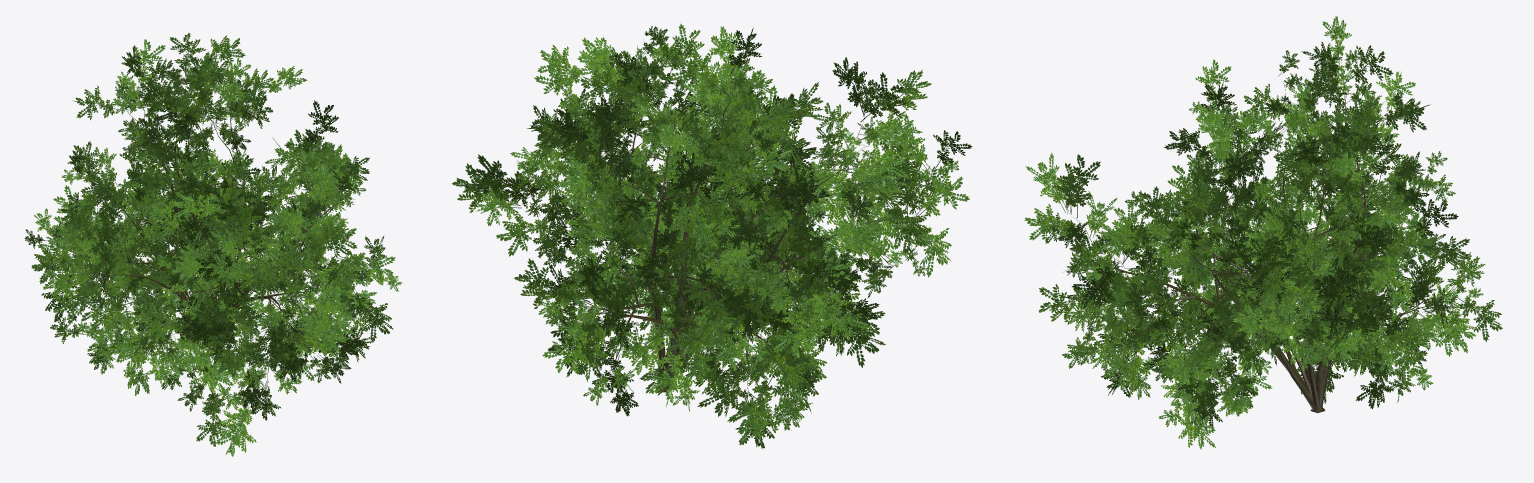
The model's file is SM_Bush_A_ez.gltf.
The picture shows the model from 3 angles, left to right: view 1: azimuth 30°, elevation 25°; view 2: azimuth 150°, elevation 25°; view 3: azimuth 270°, elevation 25°; orthographic projection. The views are drawn at different scales.
Parts seen in each view (by area): view 1: SM_Bush_A_ez; view 2: SM_Bush_A_ez; view 3: SM_Bush_A_ez.
Part boxes in pixels (x1=…): SM_Bush_A_ez: x1=24, y1=33, x2=402, y2=456; SM_Bush_A_ez: x1=452, y1=23, x2=972, y2=449; SM_Bush_A_ez: x1=1024, y1=16, x2=1502, y2=449.
Bounding box in the file's own units: 1.72 × 1.6 × 1.78.
2 materials, 2 textured.
